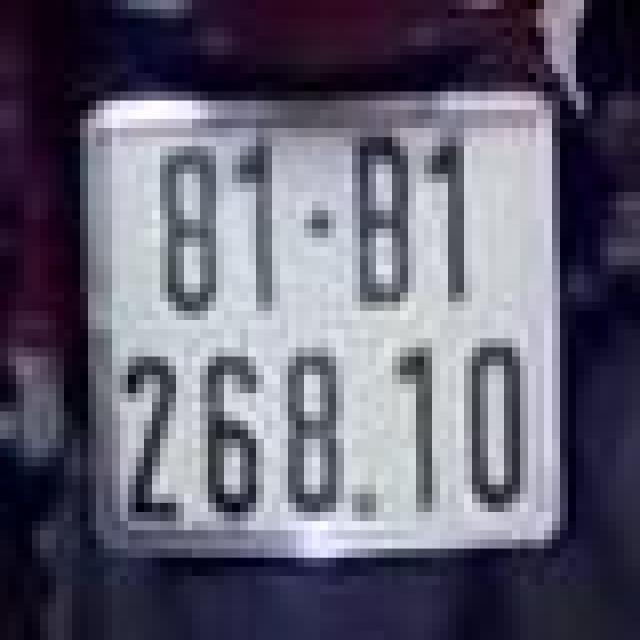0: (456, 324, 536, 526)
1: (224, 128, 296, 329), (380, 329, 444, 530), (432, 105, 488, 306)
2: (108, 329, 188, 540)
6: (192, 343, 272, 535)
8: (148, 128, 228, 320), (272, 343, 344, 516)
B: (352, 114, 416, 325)
